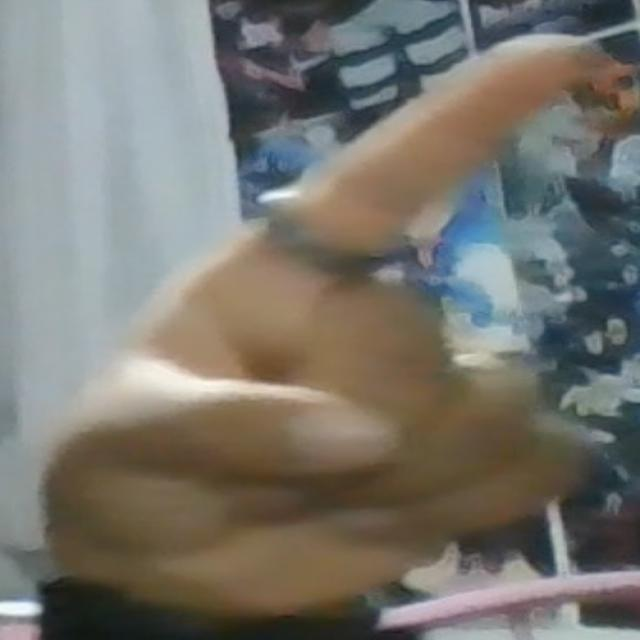Z: (43, 27, 618, 610)
